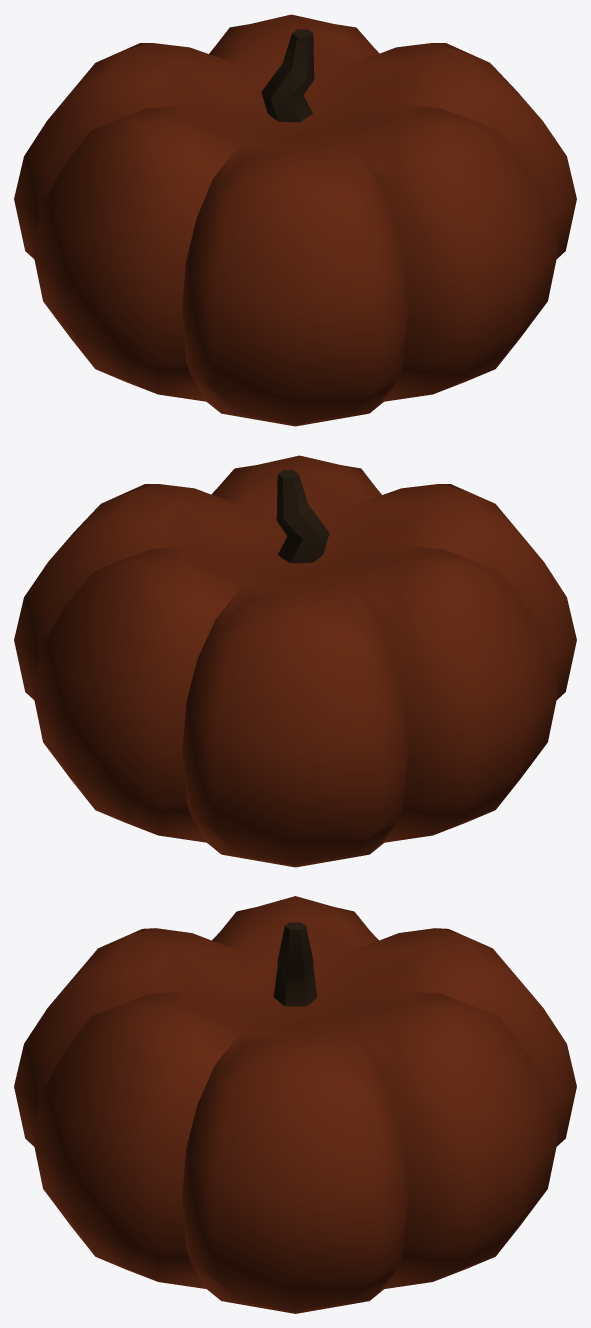
The model's file is Pumpkin.obj.
3 views of the same model, one above another, from view 1: azimuth 30°, elevation 25°; view 2: azimuth 150°, elevation 25°; view 3: azimuth 270°, elevation 25° (orthographic).
Visible parts, largest first — view 1: Pumpkin_Cylinder.047; view 2: Pumpkin_Cylinder.047; view 3: Pumpkin_Cylinder.047.
Part boxes in pixels (x1,y1,x2,y2): Pumpkin_Cylinder.047: (14,14,576,426); Pumpkin_Cylinder.047: (14,455,576,867); Pumpkin_Cylinder.047: (14,896,576,1313).
Size of the model in its own units: 1.5 by 0.9309 by 1.51.
